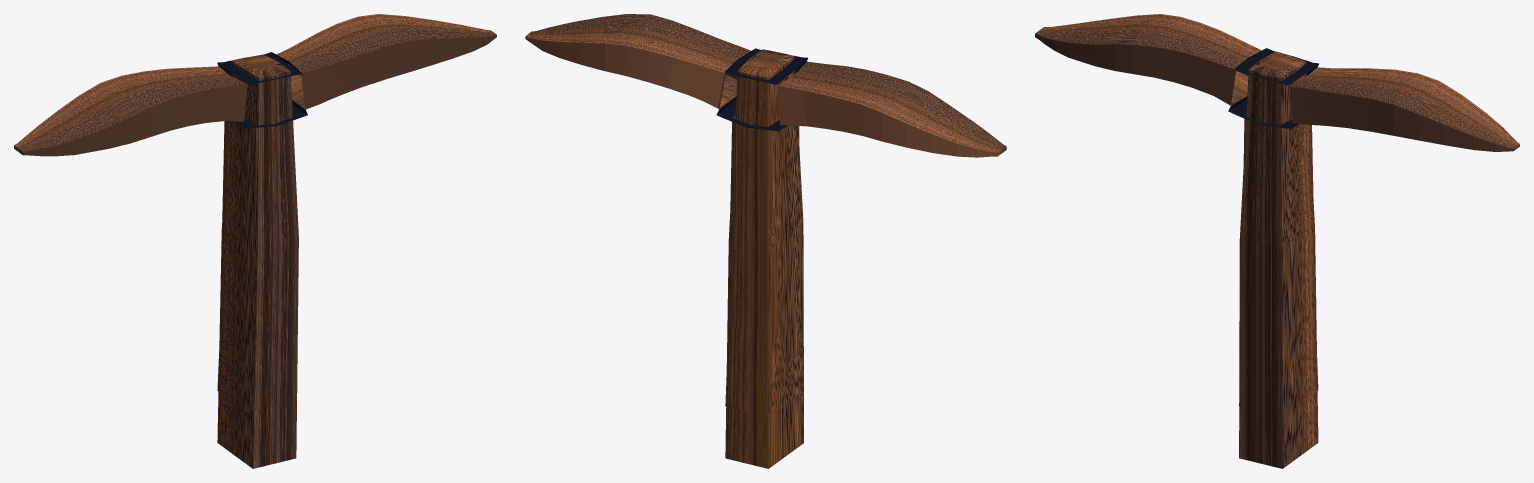
Rendered from picconelegno.glb.
3 views of the same model, side by side, from view 1: azimuth 30°, elevation 25°; view 2: azimuth 150°, elevation 25°; view 3: azimuth 330°, elevation 25° (orthographic).
Parts seen in each view (by area): view 1: Plane; view 2: Plane; view 3: Plane.
Part boxes in pixels (x1,y1,x2,y2): Plane: (14, 14, 496, 468); Plane: (525, 14, 1006, 468); Plane: (1035, 14, 1519, 468).
Bounding box in the file's own units: 12.67 × 9.97 × 1.85.
Materials: 4 (1 with a texture image).
